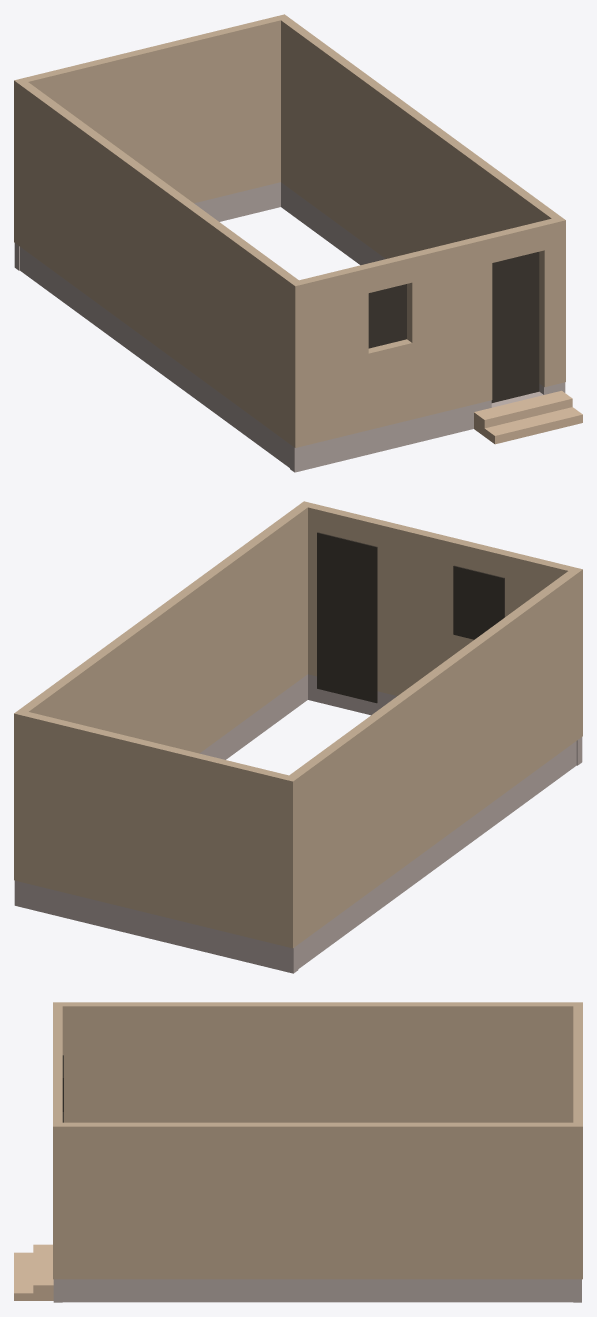
Rendered from SM_Floor_NarrowLiving_455_01.gltf.
The picture shows the model from 3 angles, top to bottom: view 1: azimuth 30°, elevation 25°; view 2: azimuth 150°, elevation 25°; view 3: azimuth 270°, elevation 25°; orthographic projection. The views are drawn at different scales.
Visible parts, largest first — view 1: SM_Floor_NarrowLiving_455_01; view 2: SM_Floor_NarrowLiving_455_01; view 3: SM_Floor_NarrowLiving_455_01.
Part boxes in pixels (x1=…): SM_Floor_NarrowLiving_455_01: x1=14, y1=14, x2=582, y2=472; SM_Floor_NarrowLiving_455_01: x1=14, y1=501, x2=582, y2=973; SM_Floor_NarrowLiving_455_01: x1=14, y1=1002, x2=582, y2=1302.
Bounding box in the file's own units: 4.55 × 3 × 8.79.
1 material, 1 textured.
